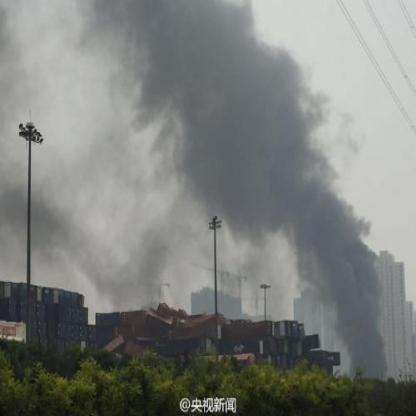smoke: (139, 84, 326, 206), (80, 0, 280, 83), (70, 218, 174, 298), (230, 205, 370, 249), (1, 165, 60, 264), (301, 251, 385, 308), (338, 316, 393, 377)
